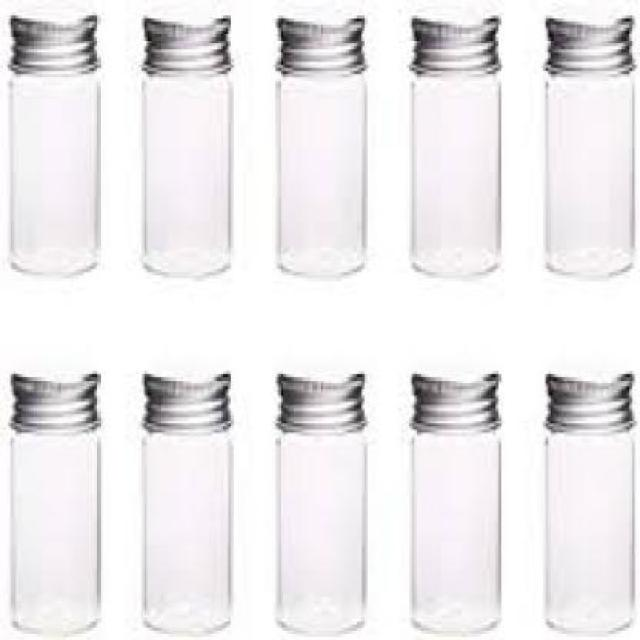kaca: (138, 423, 231, 631), (5, 426, 97, 634), (272, 429, 365, 631), (540, 423, 629, 634), (272, 71, 365, 272), (409, 68, 498, 278), (137, 71, 228, 275), (409, 426, 498, 631), (543, 71, 632, 272), (8, 71, 94, 269)
